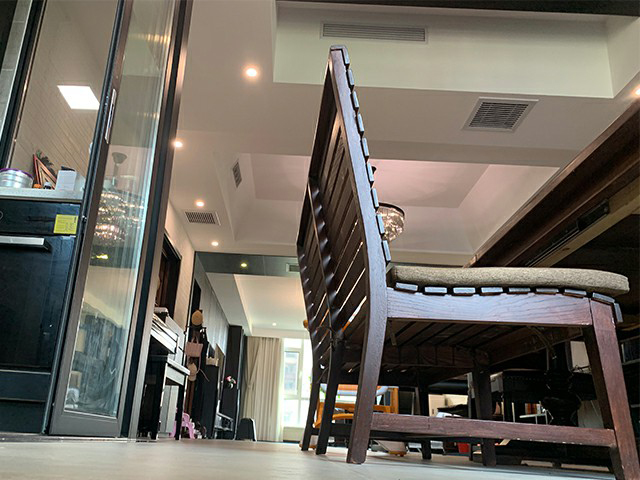cabinet: (1, 189, 144, 439), (213, 412, 236, 441)
curtain: (242, 335, 284, 443)
stool: (317, 46, 638, 480), (146, 347, 191, 441)
